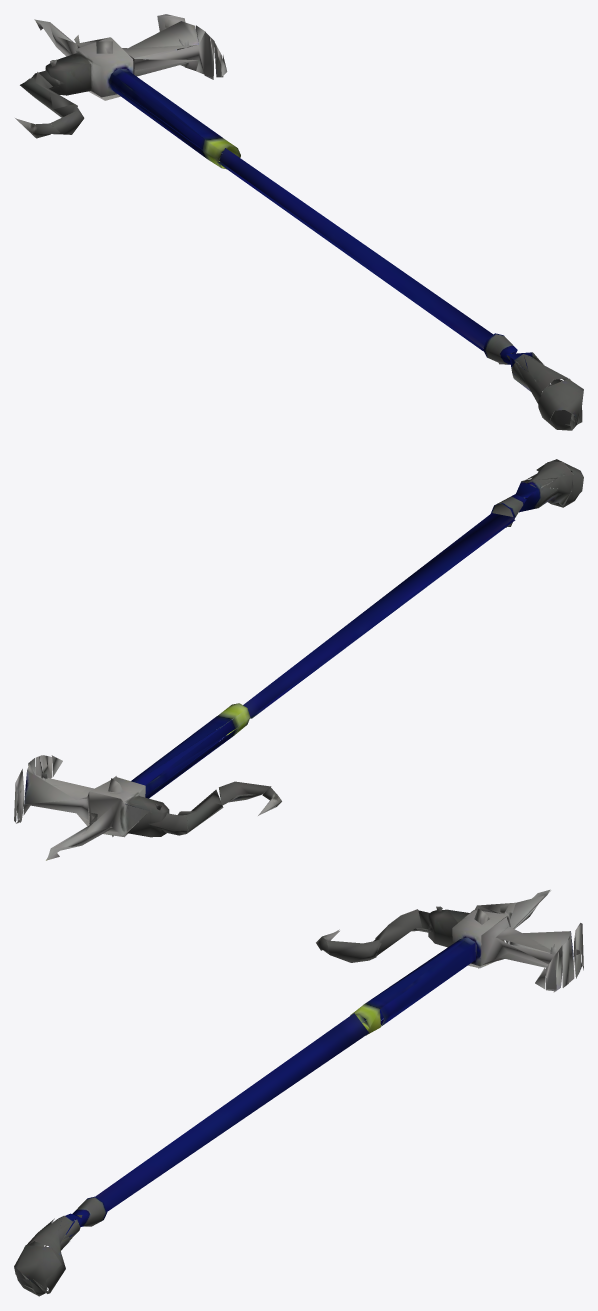
Rendered from m_halberd_lod1.fbx.
3 renders of one model, top to bottom at view 1: azimuth 30°, elevation 25°; view 2: azimuth 150°, elevation 25°; view 3: azimuth 330°, elevation 25°, orthographic. The views are drawn at different scales.
Visible parts, largest first — view 1: tripo_node_4755441e-7c97-414b-bda1-96669eeae776; view 2: tripo_node_4755441e-7c97-414b-bda1-96669eeae776; view 3: tripo_node_4755441e-7c97-414b-bda1-96669eeae776.
Part boxes in pixels (bbox=[...]): tripo_node_4755441e-7c97-414b-bda1-96669eeae776: bbox=[15, 14, 583, 430]; tripo_node_4755441e-7c97-414b-bda1-96669eeae776: bbox=[14, 459, 583, 860]; tripo_node_4755441e-7c97-414b-bda1-96669eeae776: bbox=[14, 889, 583, 1296].
Size of the model in its own units: 0.5405 by 0.1329 by 2.35.
